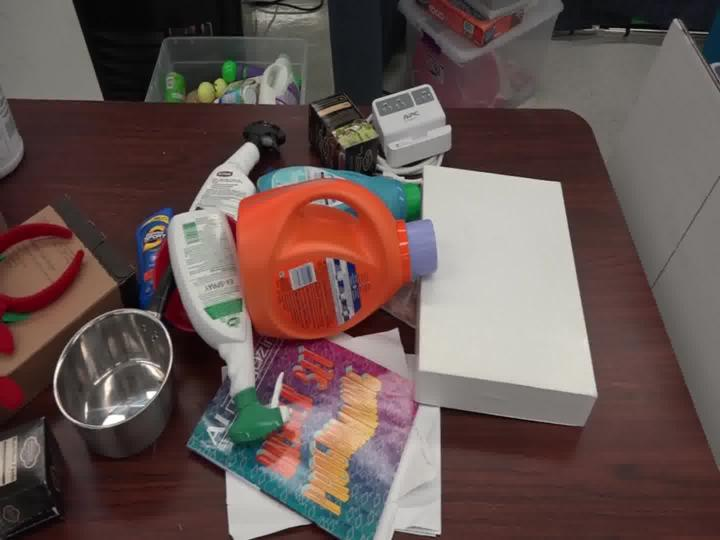downy: (223, 144, 425, 236)
